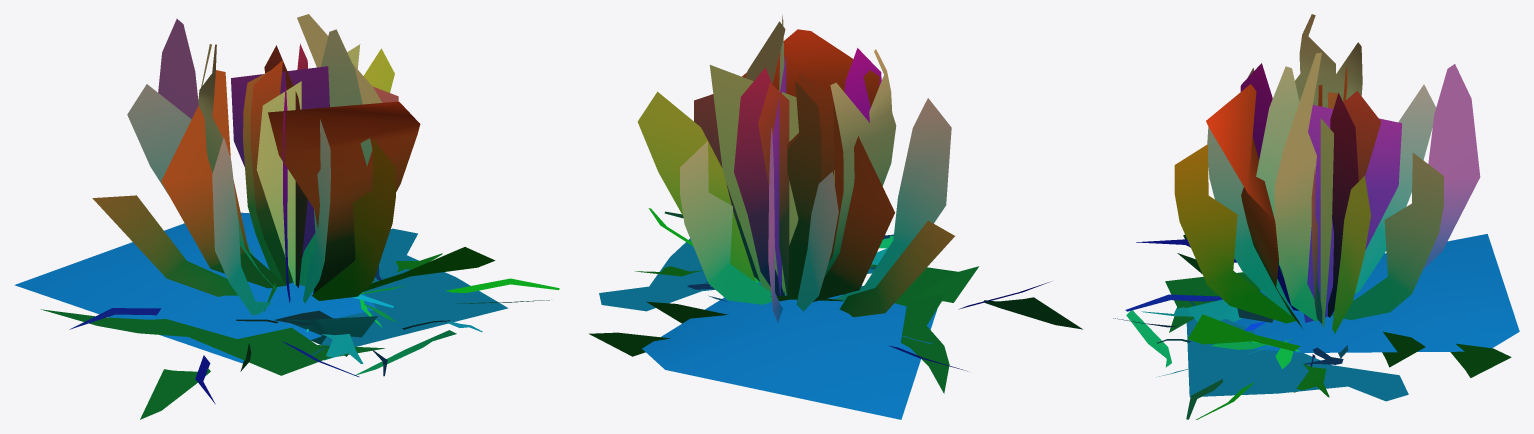
File: Dead_Shrubs_vdknafgha_Low_vdknafgha_VarE_LOD0.fbx
3 views of the same model, side by side, from view 1: azimuth 30°, elevation 25°; view 2: azimuth 150°, elevation 25°; view 3: azimuth 270°, elevation 25° (orthographic).
Visible parts, largest first — view 1: _p0az_VarE_LOD1; view 2: _p0az_VarE_LOD1; view 3: _p0az_VarE_LOD1.
Boxes of the visible parts, x1,y1,x2,y2 form: _p0az_VarE_LOD1: [14, 14, 559, 419]; _p0az_VarE_LOD1: [589, 15, 1082, 419]; _p0az_VarE_LOD1: [1113, 14, 1519, 419].
Size of the model in its own units: 71.32 by 48.51 by 59.5.
